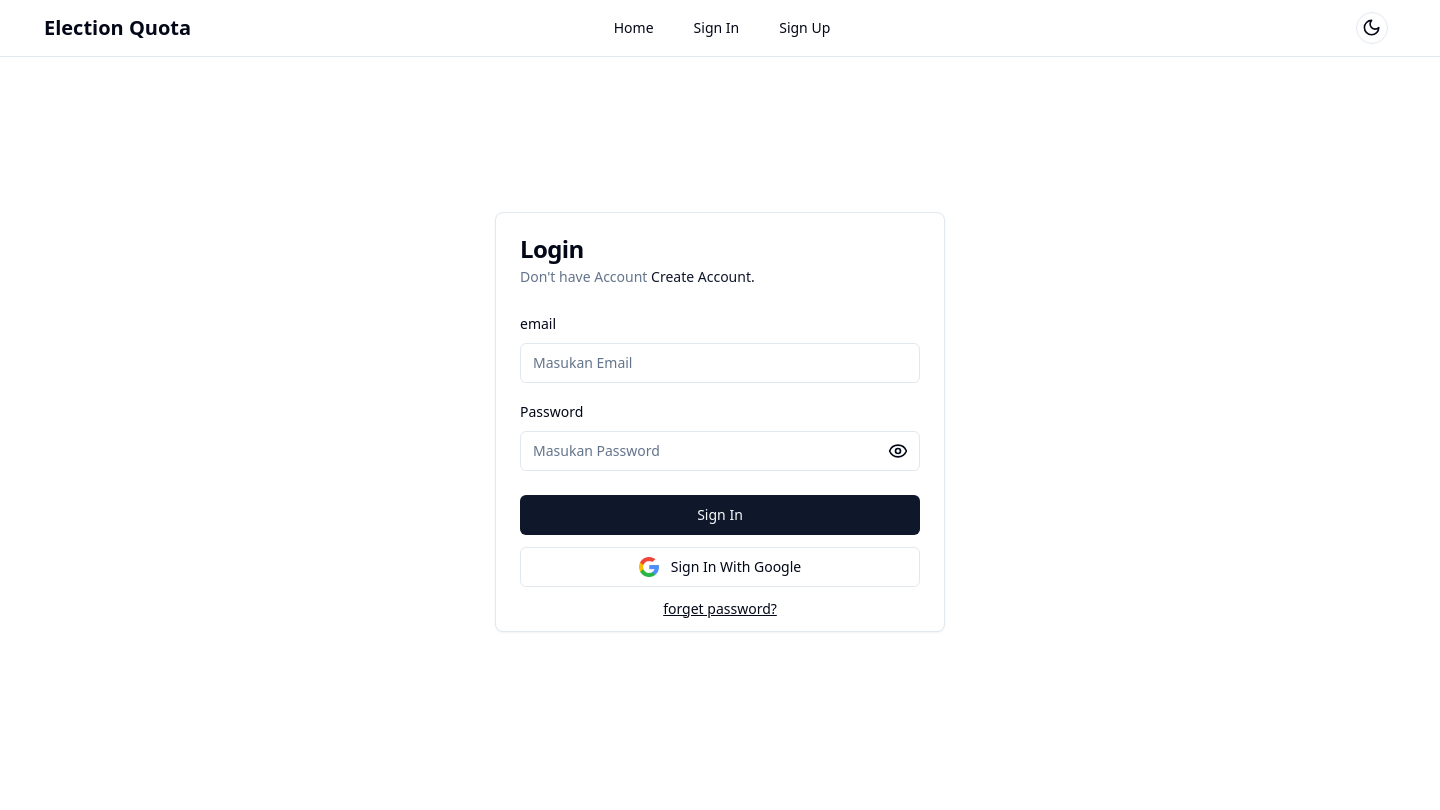
Login Component › validates form inputs correctly
Submit the form without filling any fields
Step 1. Click the button with test id "button-sigin" → coordinates (720, 514), box [520,494,920,534]
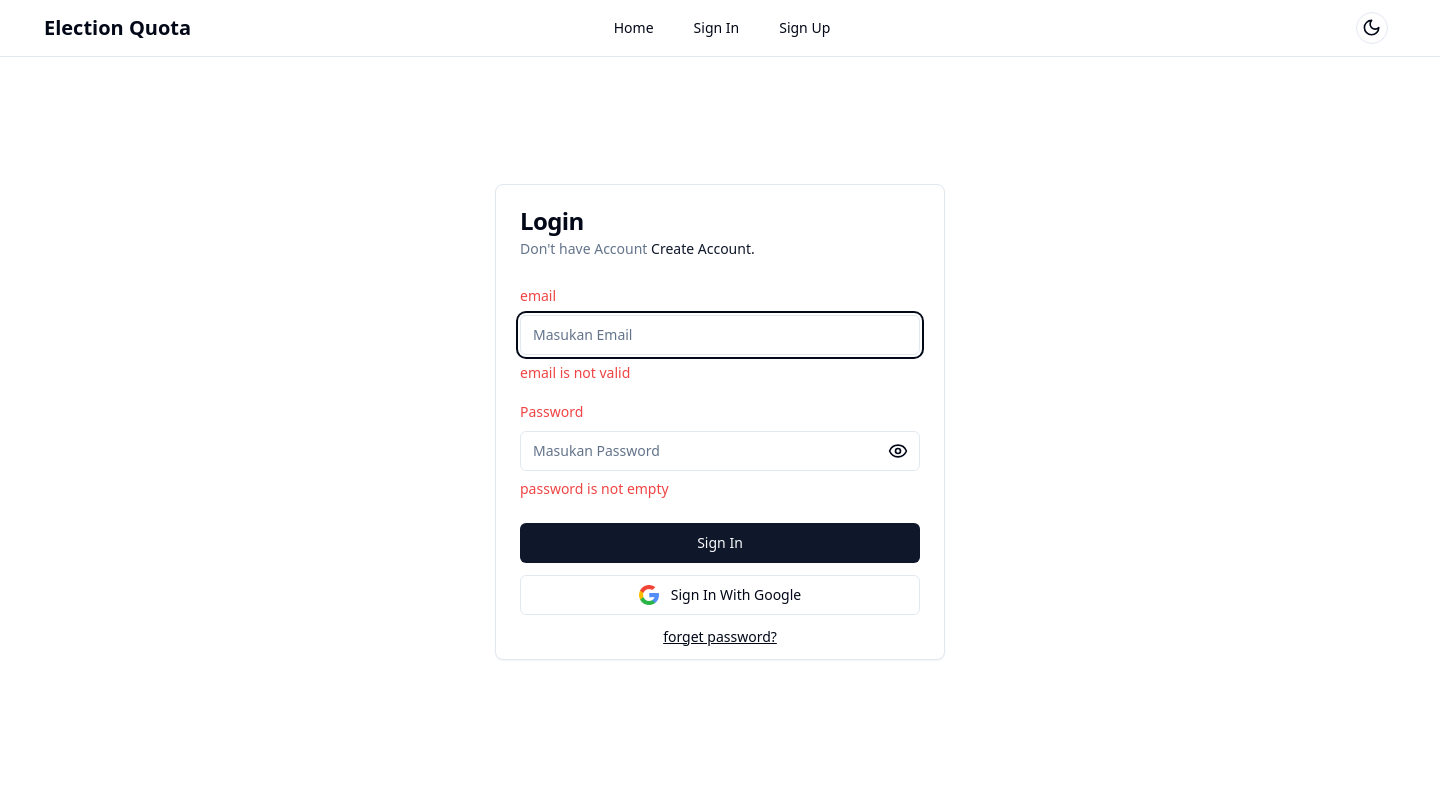
expect the text "email is not valid" is shown: met, box [520,362,630,382]
expect the text "password is not empty" is shown: met, box [520,478,669,498]
